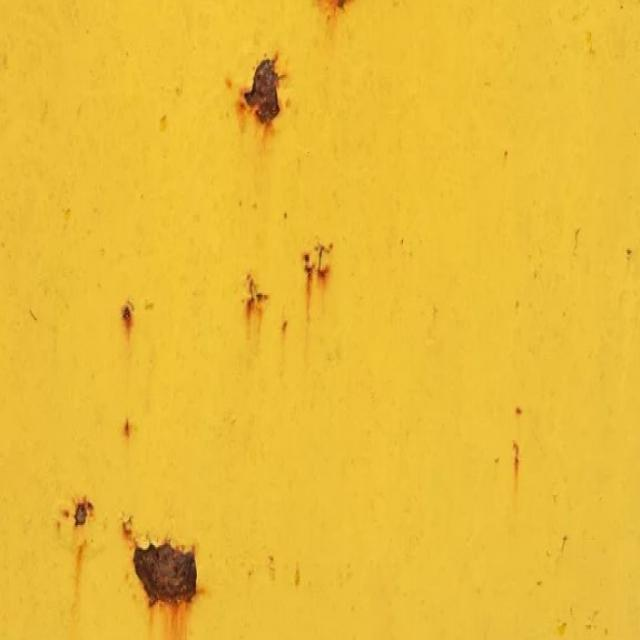Corrosion: (122, 519, 197, 640), (244, 59, 280, 122), (303, 245, 332, 316), (244, 273, 270, 338), (74, 499, 93, 528), (121, 303, 132, 332), (123, 419, 129, 438)
